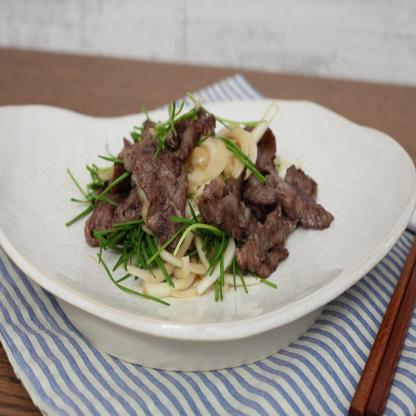Carne: (126, 94, 209, 227), (225, 161, 319, 278), (254, 159, 330, 233), (85, 185, 140, 249), (208, 178, 256, 228)
